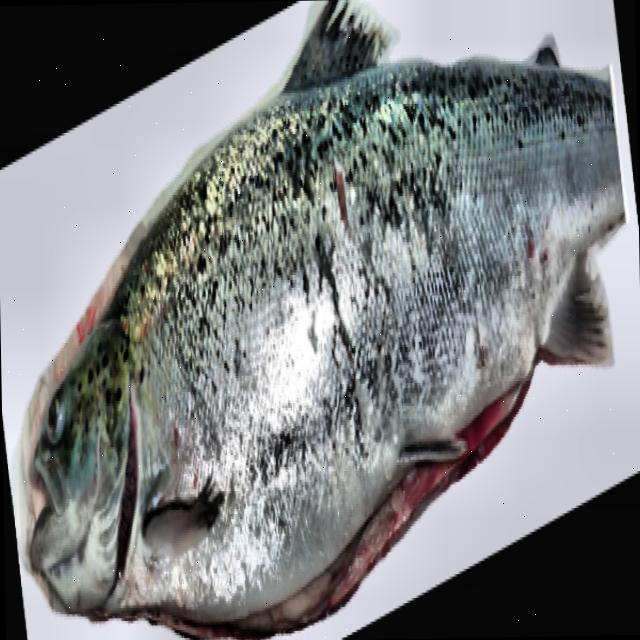mild_red: (104, 50, 625, 619)
wound: (121, 376, 532, 640), (109, 384, 139, 596)
